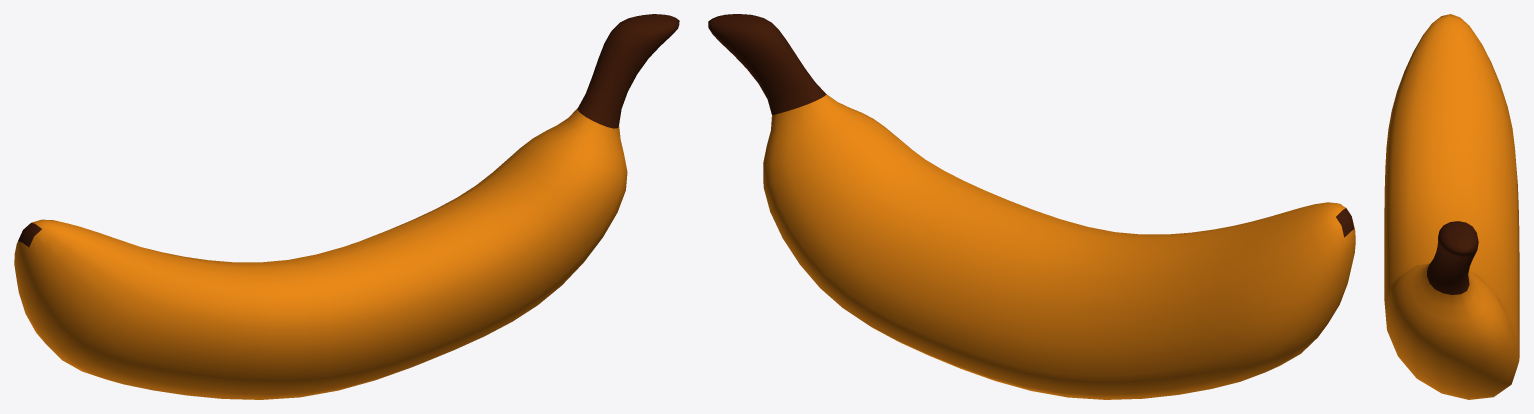
File: Banane.fbx
3 renders of one model, left to right at view 1: azimuth 30°, elevation 25°; view 2: azimuth 150°, elevation 25°; view 3: azimuth 270°, elevation 25°, orthographic. The views are drawn at different scales.
Visible parts, largest first — view 1: Cube; view 2: Cube; view 3: Cube.
Boxes of the visible parts, bbox=[...] form: Cube: bbox=[14, 14, 679, 399]; Cube: bbox=[708, 14, 1355, 399]; Cube: bbox=[1384, 14, 1519, 399].
Size of the model in its own units: 31.04 by 13.27 by 6.36.
